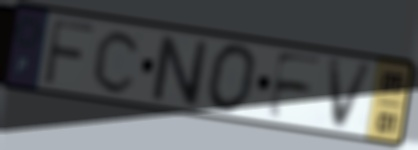C: (90, 27, 144, 96)
F: (264, 49, 327, 122), (40, 15, 98, 89)
N: (149, 31, 210, 110)
O: (205, 41, 261, 117)
V: (326, 57, 378, 132)
